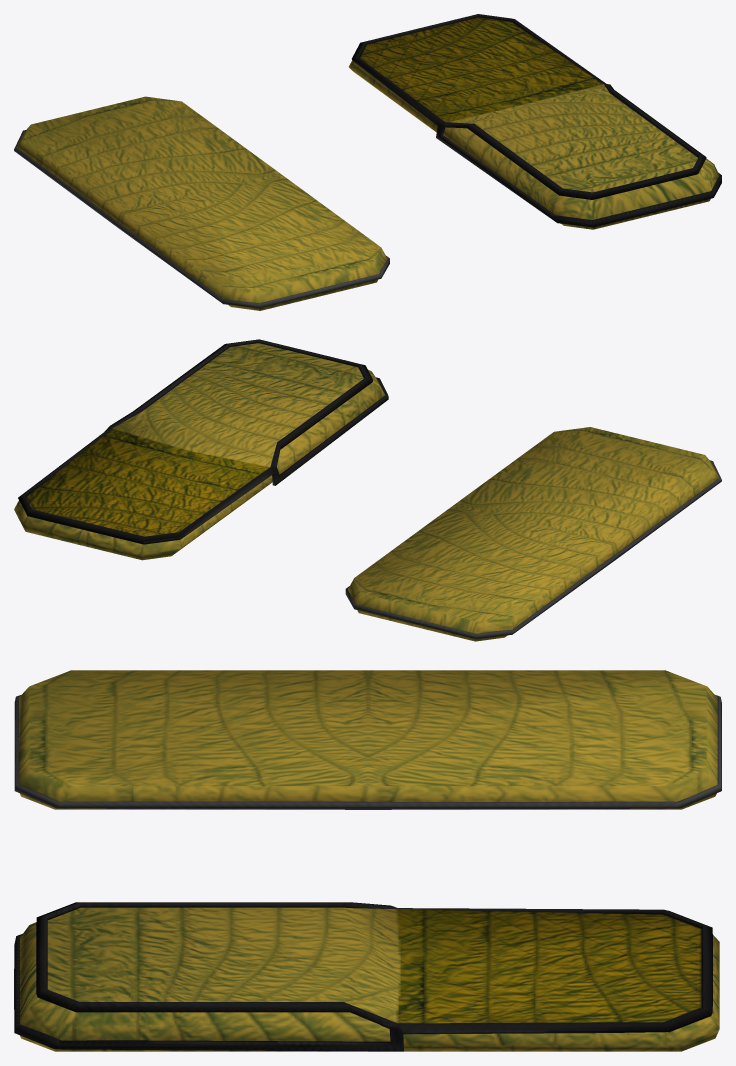
Rendered from SleepingBags_Yellow.obj.
3 views of the same model, one above another, from view 1: azimuth 30°, elevation 25°; view 2: azimuth 150°, elevation 25°; view 3: azimuth 270°, elevation 25° (orthographic). The views are drawn at different scales.
Visible parts, largest first — view 1: Cube.040_Material.008, Cube.039_Material.008, Cube.036_Material.008, Cube.037_Material.008; view 2: Cube.040_Material.008, Cube.039_Material.008, Cube.036_Material.008, Cube.037_Material.008; view 3: Cube.040_Material.008, Cube.039_Material.008, Cube.036_Material.008, Cube.037_Material.008.
Part boxes in pixels (x1,y1,x2,y2): Cube.040_Material.008: (16, 96, 387, 310); Cube.039_Material.008: (349, 17, 719, 229); Cube.036_Material.008: (352, 14, 721, 227); Cube.037_Material.008: (14, 130, 389, 308); Cube.040_Material.008: (348, 427, 719, 641); Cube.039_Material.008: (14, 343, 384, 560); Cube.036_Material.008: (18, 339, 388, 544); Cube.037_Material.008: (345, 460, 721, 638); Cube.040_Material.008: (19, 670, 717, 809); Cube.039_Material.008: (20, 907, 719, 1051); Cube.036_Material.008: (14, 902, 712, 1051); Cube.037_Material.008: (14, 695, 721, 809).
Size of the model in its own units: 2.4 by 0.1329 by 1.96.
